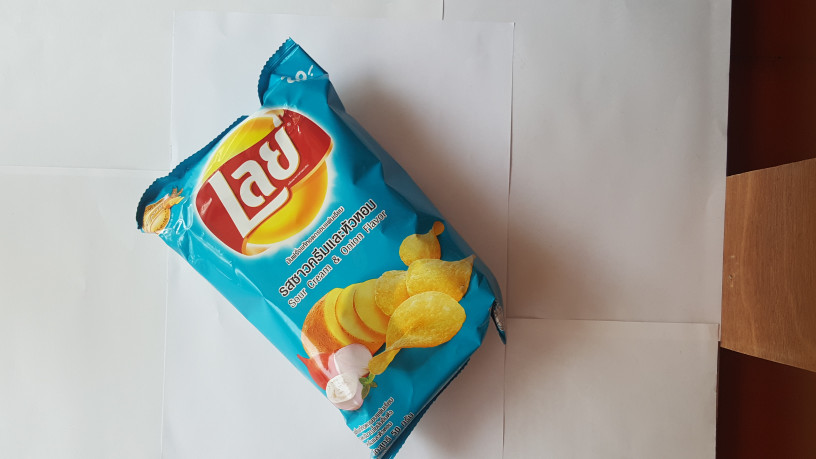lays-onion: (128, 36, 516, 458)
